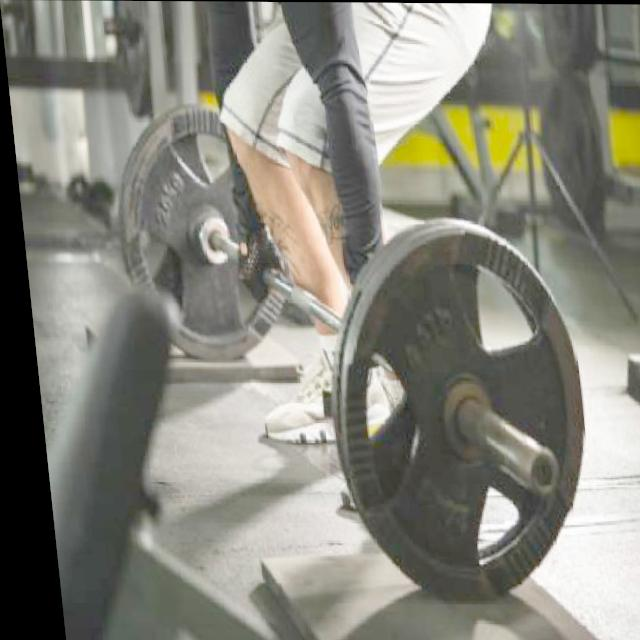barbell: (301, 219, 604, 603)
